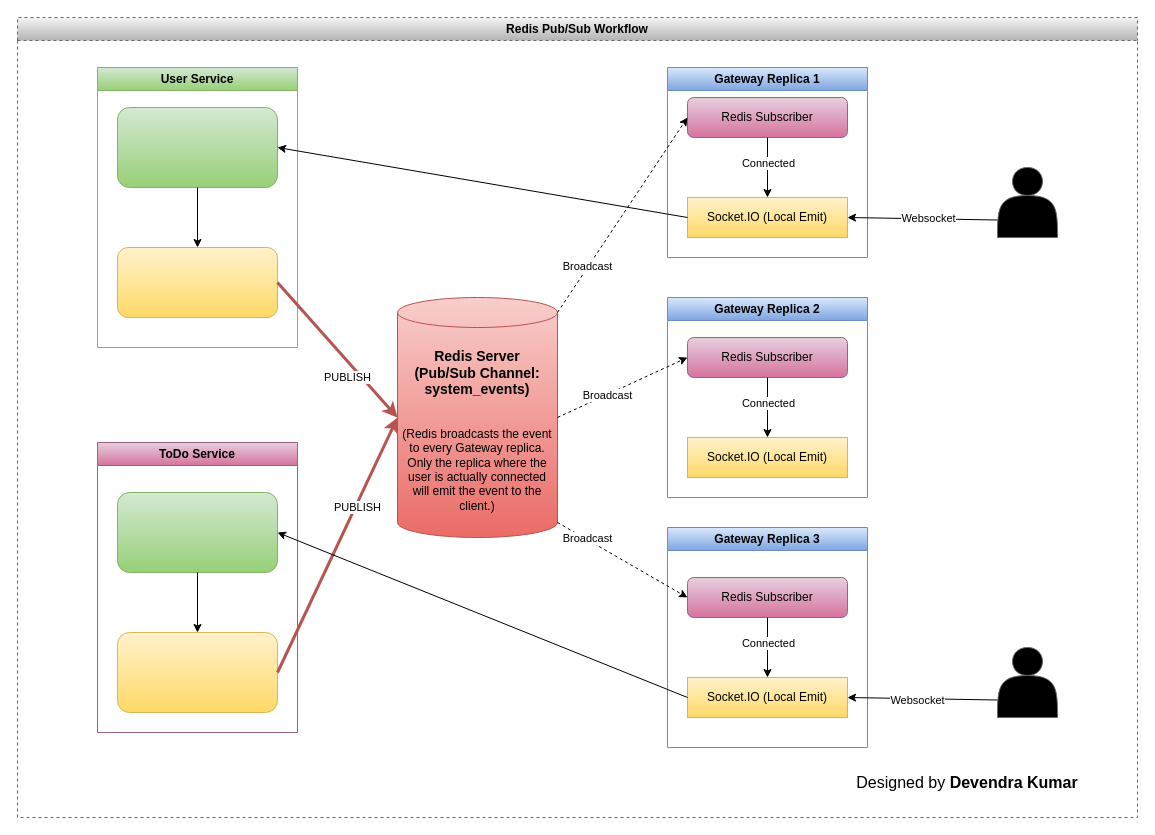
Image size: 1155x835. Some labels were removed from this diagram. The centre of each missing label's shape, as x and y in pixels:
Listen Event GET_TASKS_DATA (Business Logic): point 197,532
Listen Event GET_USER_PROFILE (Business Logic): point 197,147
Publish Event TASKS_DATA: point 197,672
Publish Event USER_PROFILE: point 197,282
